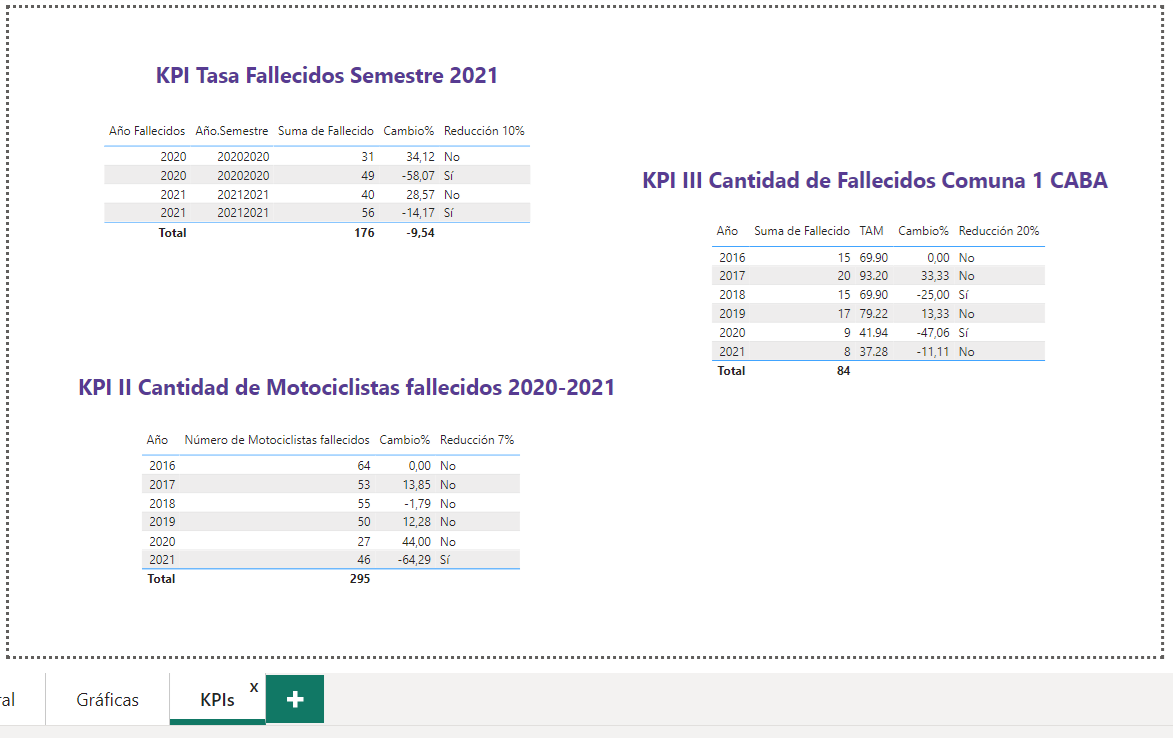

What the dashboard file says about the page in this screenshot:
{"tool":"powerbi","page":{"name":"KPIs","canvas":[1280,720],"ordinal":2},"visuals":[{"type":"tableEx","fields":{"Values":["KPI1.Año_F","KPI1.Año.Semestre","Sum(KPI1.Fallecido)","Sum(KPI1.Cambio%)","KPI1.Reducción"]},"box":[100,120,508,152],"z":0},{"type":"textbox","box":[142,52,424,68],"z":1000},{"type":"textbox","box":[72,398,626,66],"z":2000},{"type":"tableEx","fields":{"Values":["KPI2.AAAA","CountNonNull(KPI2.N_VICTIMAS)","Motos._1","Motos.Reducción"]},"box":[142,464,450,212],"z":3000},{"type":"textbox","box":[698.4,168.4,543.2,104.1],"z":4000},{"type":"tableEx","fields":{"Values":["KPI3.Año_F","KPI3.Fallecido","KPI3.TAM","KPI3.Cambio_Porcentual","KPI3.Reducción 20%"]},"box":[775.2,231.2,390.4,197.1],"z":5000}]}

Visuals, with their boxes on the page's 1280x720 design canvas (x1, y1, x2, y2). These are canvas units, not pixel positions in the 1173x738 screenshot, which may show the page scaled, cropped or inside an application window:
tableEx - KPI1.Año_F x KPI1.Año.Semestre: locate(100, 120, 608, 272)
textbox: locate(142, 52, 566, 120)
textbox: locate(72, 398, 698, 464)
tableEx - KPI2.AAAA x CountNonNull(KPI2.N_VICTIMAS): locate(142, 464, 592, 676)
textbox: locate(698, 168, 1242, 272)
tableEx - KPI3.Año_F x KPI3.Fallecido: locate(775, 231, 1166, 428)
